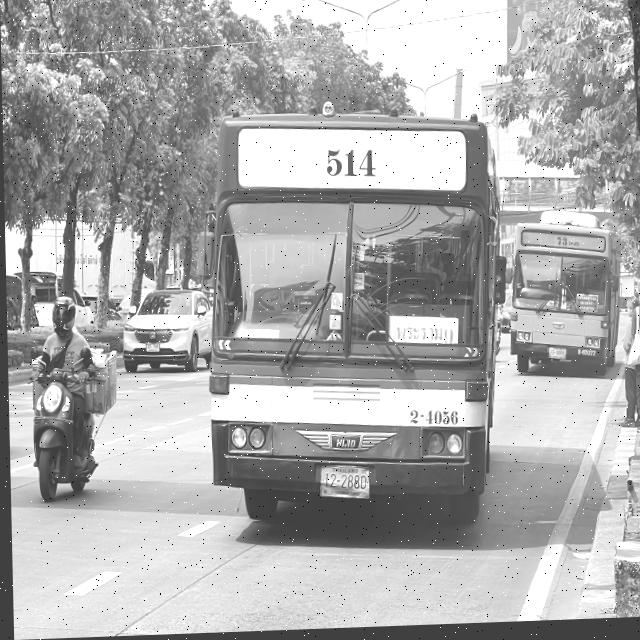BMTA-bus: (187, 94, 514, 546), (509, 206, 626, 389)
Bus Line Number: (312, 137, 388, 189), (554, 238, 579, 253)
Bus Side Number: (405, 410, 459, 431), (574, 353, 595, 362)
Destination Sign: (389, 317, 457, 350), (576, 298, 597, 317)
